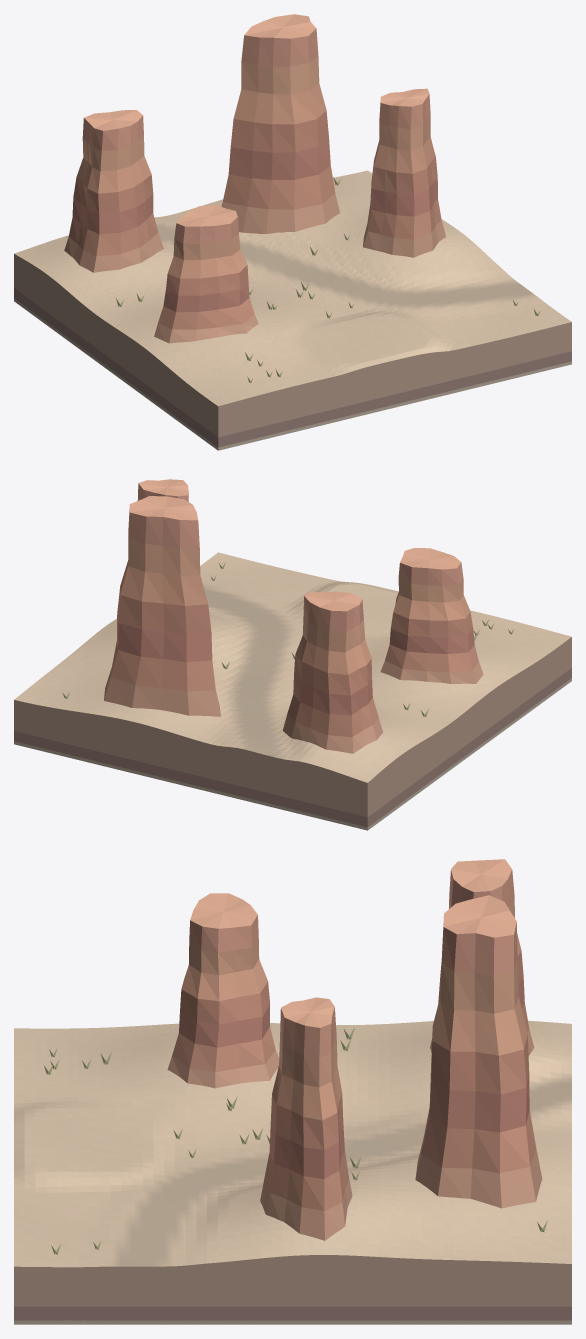
Rendered from D03_proc.glb.
3 views of the same model, one above another, from view 1: azimuth 30°, elevation 25°; view 2: azimuth 150°, elevation 25°; view 3: azimuth 270°, elevation 25° (orthographic). The views are drawn at different scales.
Parts seen in each view (by area): view 1: proc_cliff, proc_ground, proc_skirt; view 2: proc_cliff, proc_ground, proc_skirt; view 3: proc_ground, proc_cliff, proc_skirt, proc_grass.
Part boxes in pixels (x1,y1,x2,y2): proc_cliff: (64, 14, 445, 343); proc_ground: (14, 170, 571, 406); proc_skirt: (14, 254, 571, 450); proc_cliff: (104, 479, 483, 753); proc_ground: (14, 552, 571, 782); proc_skirt: (14, 637, 571, 830); proc_ground: (14, 1020, 571, 1267); proc_cliff: (167, 859, 542, 1240); proc_skirt: (14, 1255, 571, 1324); proc_grass: (44, 1027, 547, 1254).
Size of the model in its own units: 8 by 5.22 by 8.
